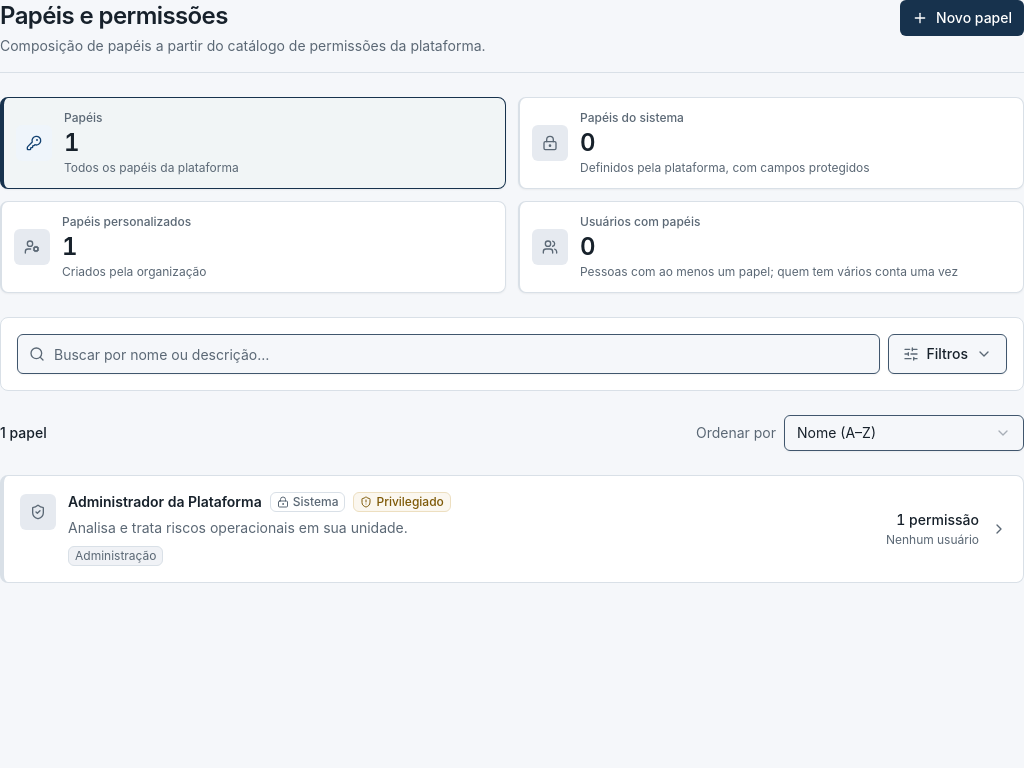
Test: RoleAdminView — editing › offers NO save for a system role and never PATCHes one (F-68, FR-031)
Click the button named "Abrir detalhes do papel Administrador da Plataforma".
click(217, 503)  # box [0,475,1023,583]
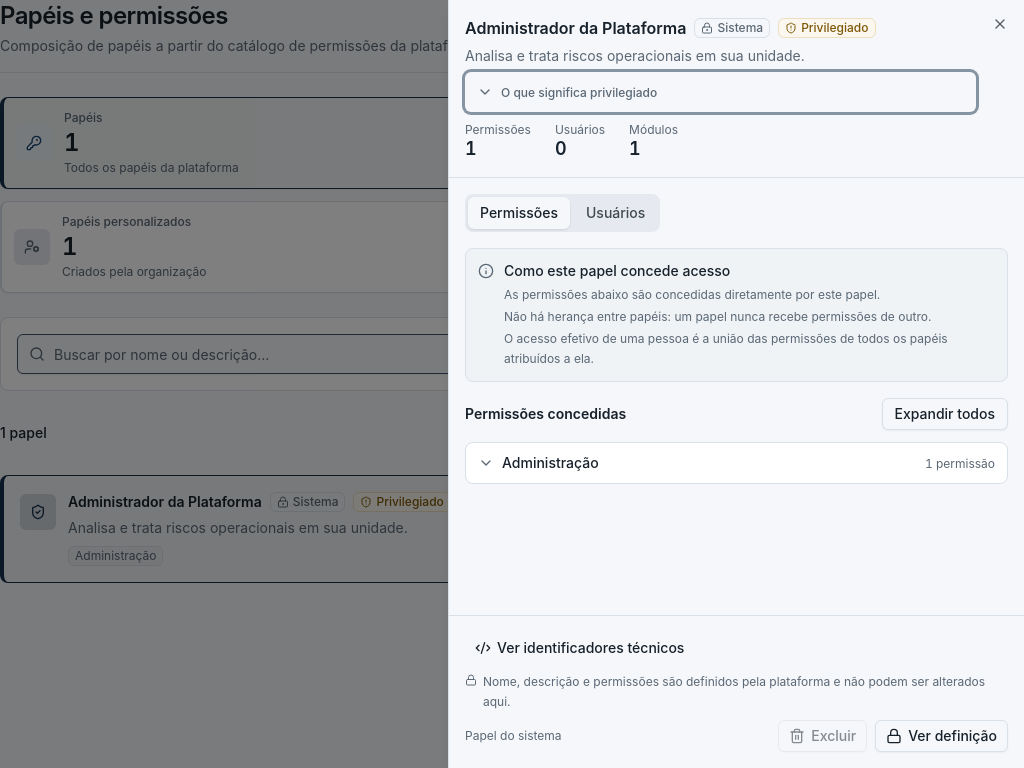
Result: the text "Nome, descrição e permissões são definidos pela plataforma e não podem ser alterados aqui." is shown at [483,674,985,709]
Click the button "Ver definição".
click(942, 736)  # box [875,720,1008,752]
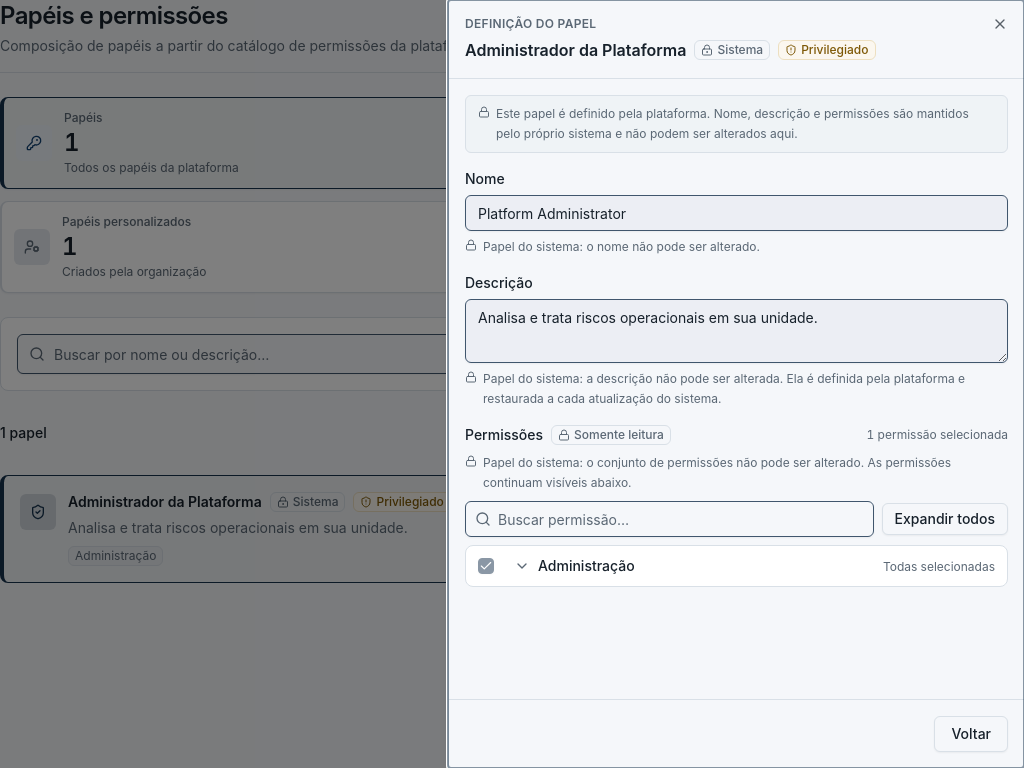
Result: the field labelled "Nome" holds "Platform Administrator" at [465,195,1008,231]
Result: the text "Papel do sistema: o nome não pode ser alterado." is shown at [483,237,760,257]
Result: the button "Voltar" is shown at [934,716,1008,752]
Replace the text in the text box labelled "Descrição" with "Nova descrição." at [736, 331], box [465,299,1008,363]
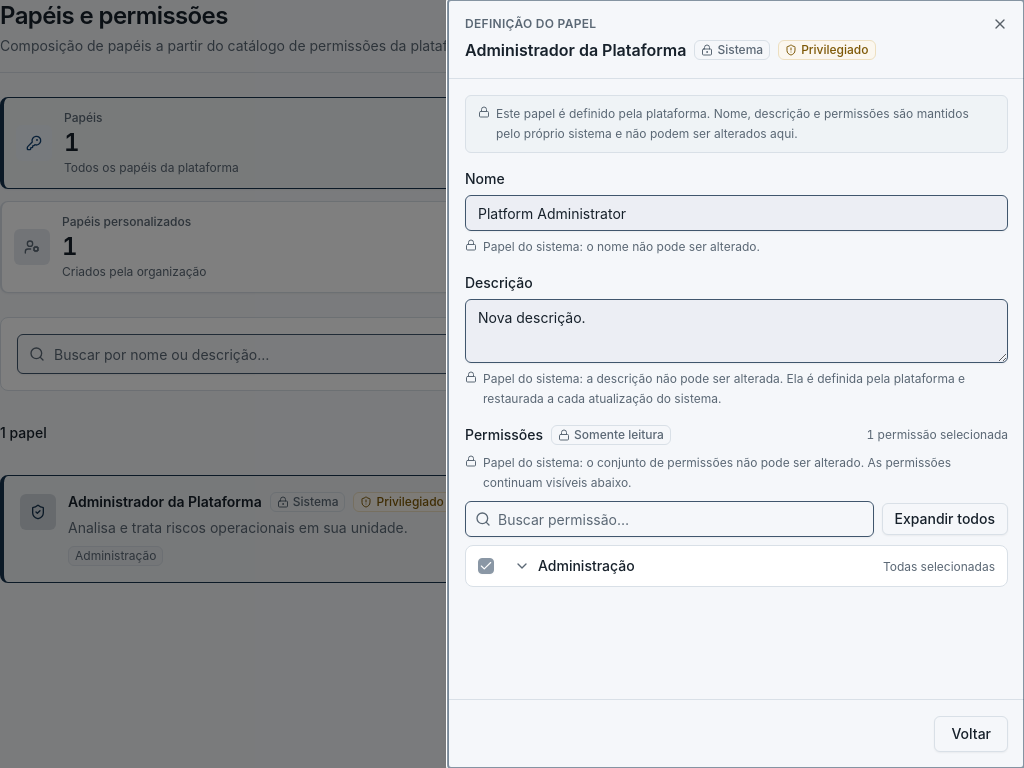
Click the button "Voltar".
click(971, 734)  # box [934,716,1008,752]
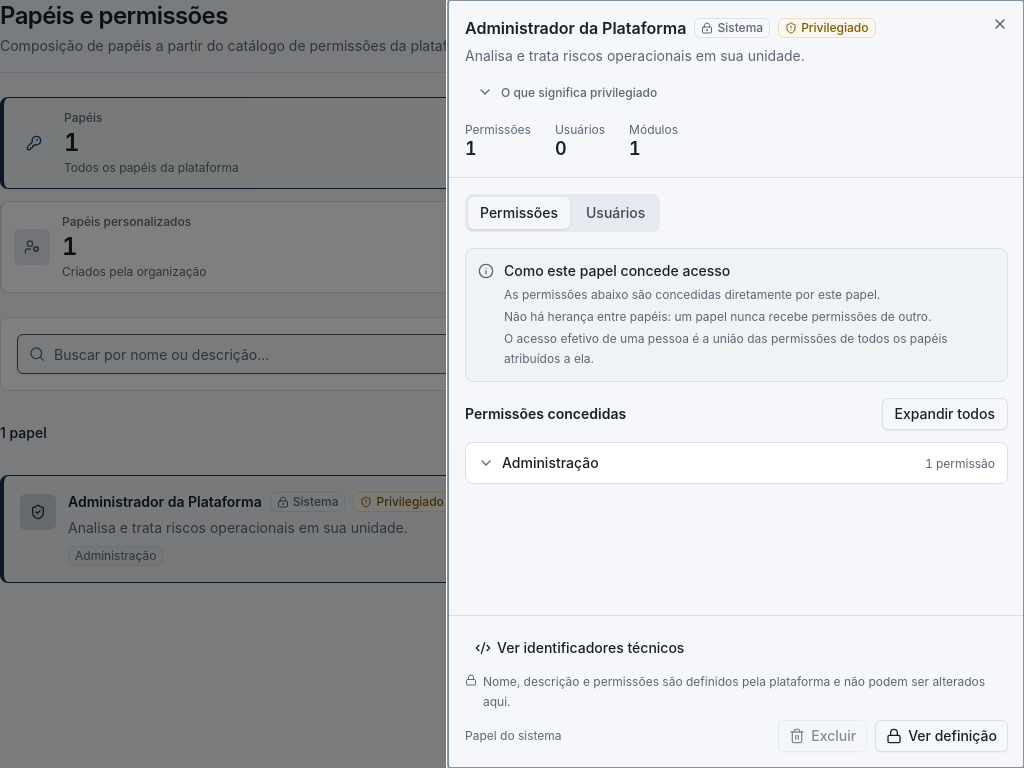
Result: the button "Ver definição" is shown at [875,720,1008,752]
